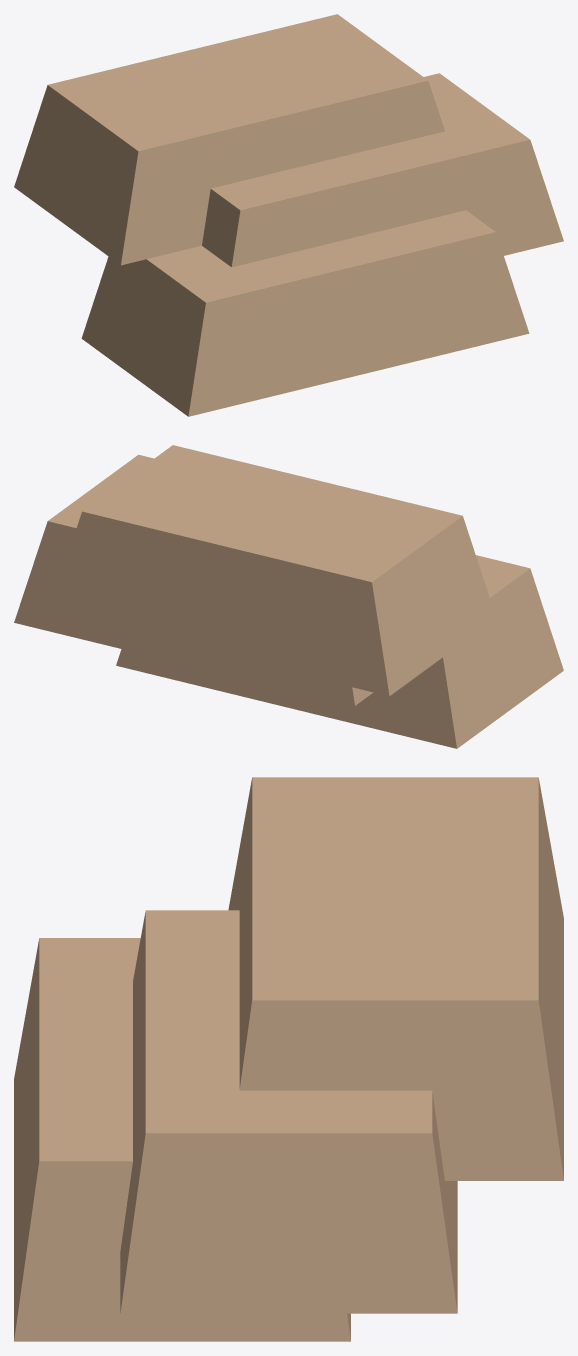
Rendered from item_094_mud_brick_m.glb.
The picture shows the model from 3 angles, top to bottom: view 1: azimuth 30°, elevation 25°; view 2: azimuth 150°, elevation 25°; view 3: azimuth 270°, elevation 25°; orthographic projection. The views are drawn at different scales.
Visible parts, largest first — view 1: item_094_mud_brick_m; view 2: item_094_mud_brick_m; view 3: item_094_mud_brick_m.
Part boxes in pixels (bbox=[...]): item_094_mud_brick_m: bbox=[14, 14, 563, 416]; item_094_mud_brick_m: bbox=[14, 445, 563, 748]; item_094_mud_brick_m: bbox=[14, 777, 563, 1341].
Bounding box in the file's own units: 0.42 × 0.2 × 0.31.
